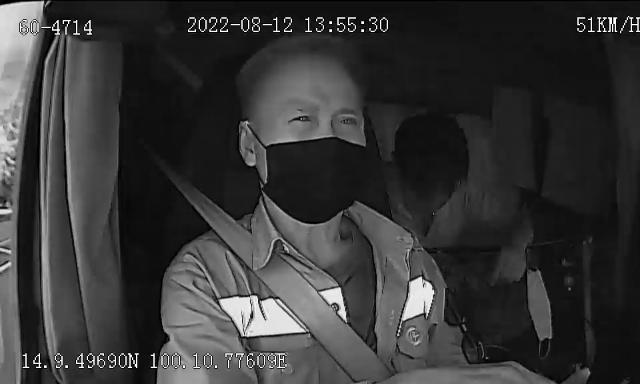SafeDriving: (330, 107, 365, 132), (282, 106, 318, 129)
Seatbelt: (140, 146, 398, 384)
